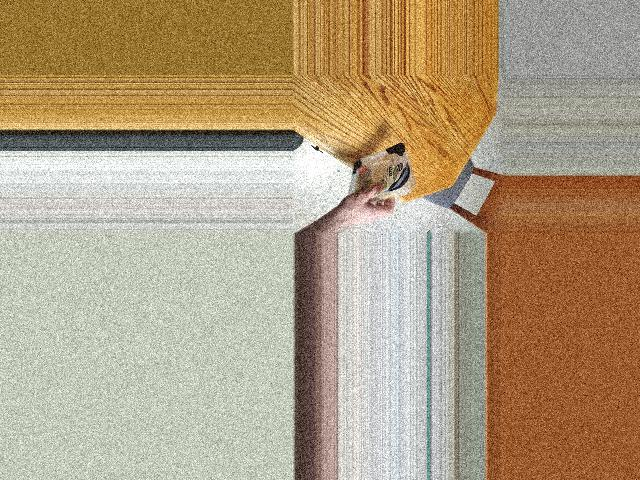cheese: (341, 147, 410, 198)
